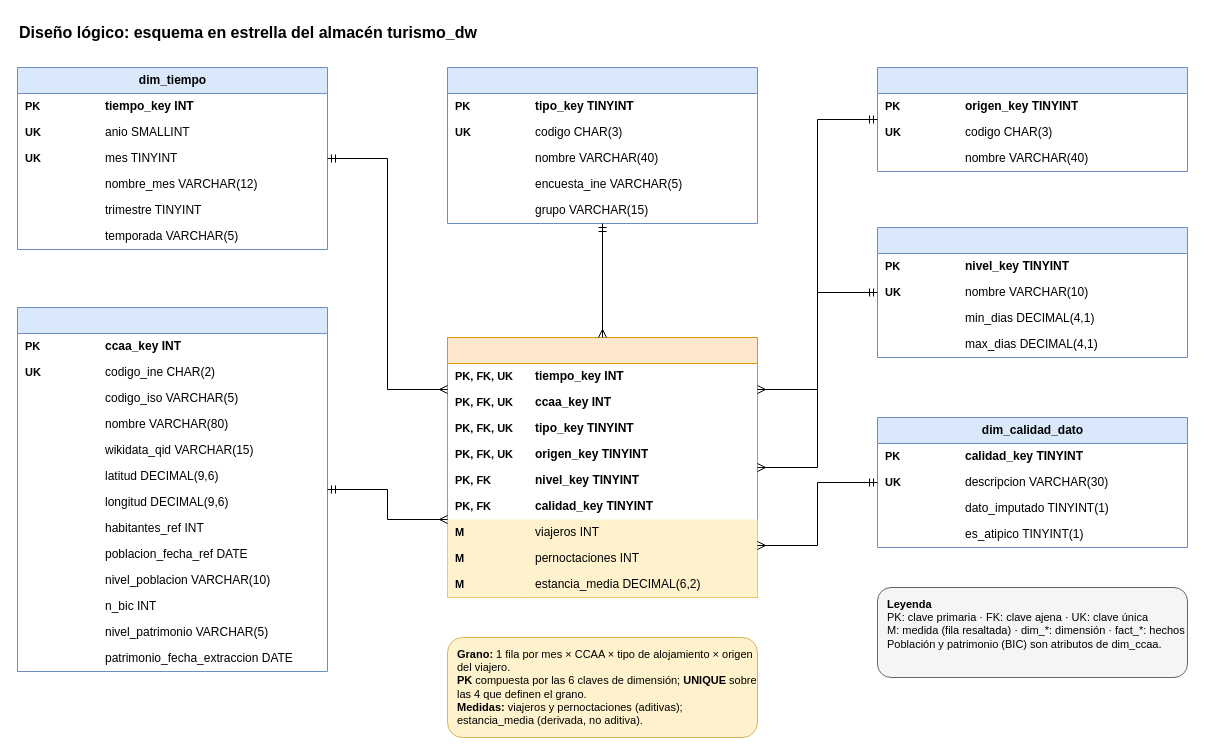
The diagram is 1205 pixels wide and 755 high, and some of its shapes have lost their labels. The box of each missing label's shape, as (x1, y1, x2, y2) in pixels:
dim_ccaa: (16, 306, 328, 672)
dim_nivel_estancia: (876, 226, 1188, 358)
dim_origen: (876, 66, 1188, 172)
dim_tipo_alojamiento: (446, 66, 758, 224)
fact_ocupacion: (446, 336, 758, 598)
